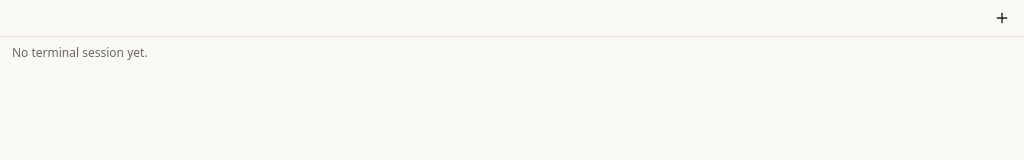
TerminalPanel › opens a session with the backend and makes it the active tab
This screenshot has width=1024, height=160.
Expected: the text "No terminal session yet." is shown, [12, 44, 148, 61]
Click the button named "New terminal session". click: (1002, 18)
box: [988, 4, 1016, 32]
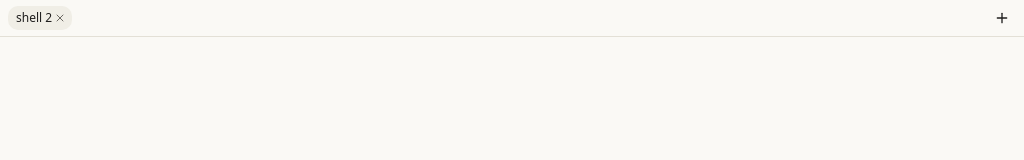
Expected: the text "No terminal session yet." is gone
